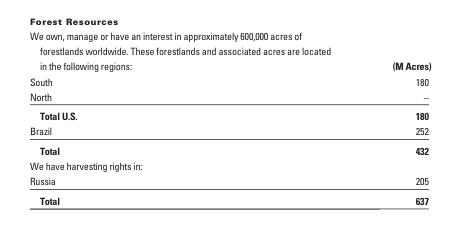table: (28, 29, 430, 206)
table column: (28, 29, 360, 206), (360, 29, 430, 206)
table projected row header: (28, 157, 430, 172)
table row: (28, 29, 430, 73), (28, 105, 430, 123), (28, 172, 430, 190), (28, 88, 430, 105), (28, 123, 430, 140), (28, 140, 430, 157), (28, 190, 430, 206), (28, 73, 430, 88), (28, 157, 430, 172)
